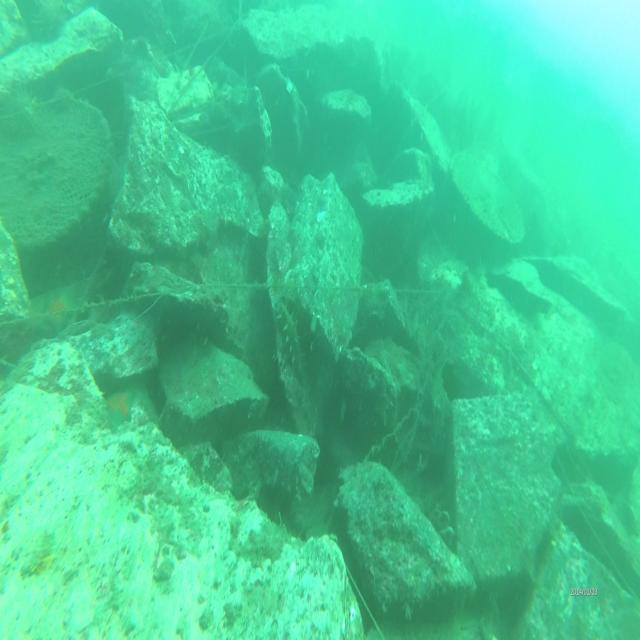holothurian: (275, 298, 311, 382)
starfish: (36, 284, 76, 332), (104, 380, 135, 428)
